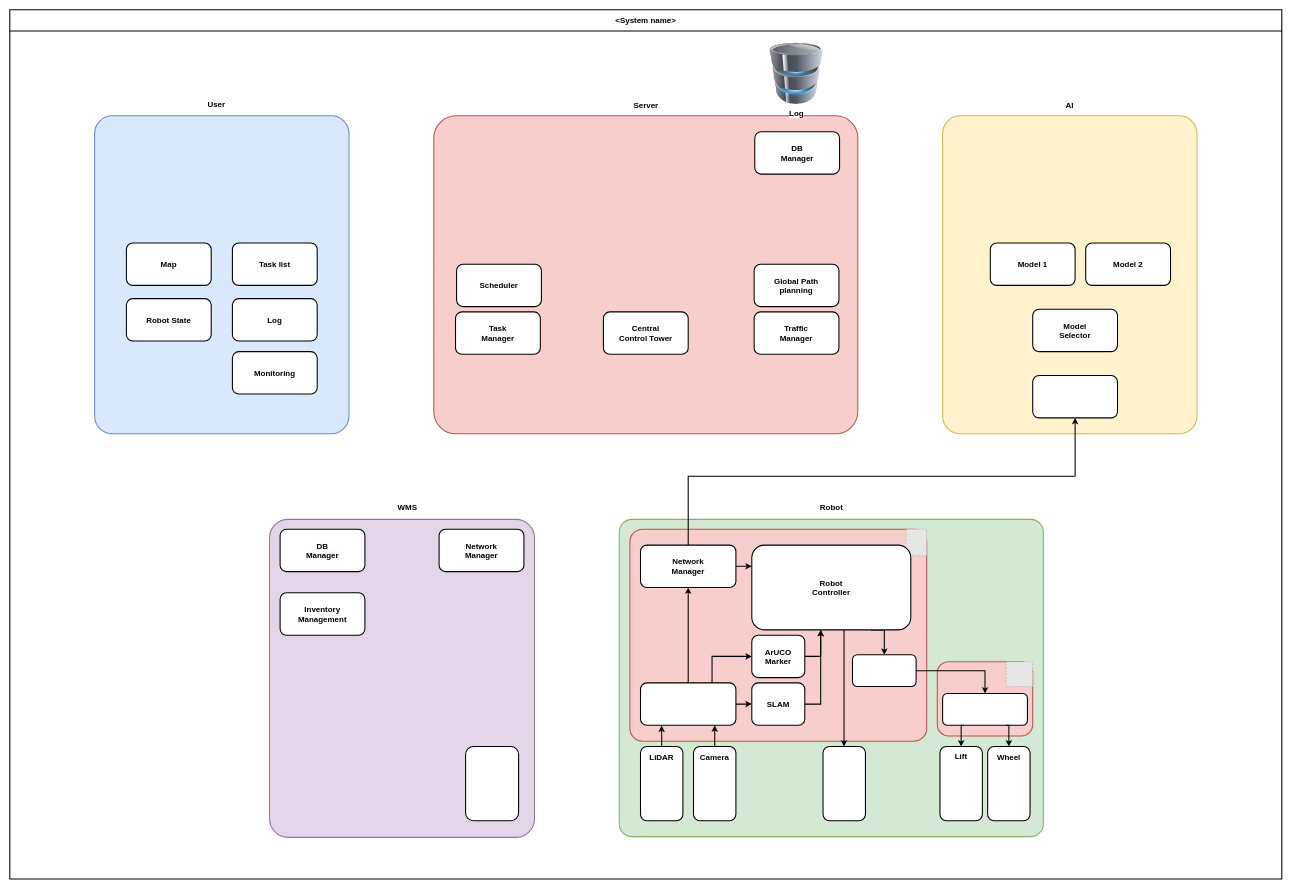
This 1291x888 diagram has some shape labels left out. Grey dashed boxes stand in for pictures. The centre of each missing label's shape, as x and y in pixels:
"Image Processor" goes at [1075,396].
"Indicator" goes at [844,783].
"Motion Planner" goes at [884,670].
"Motor Controller" goes at [985,709].
"Pallet Sensor" goes at [492,783].
"Sensor Data Processor" goes at [688,704].
